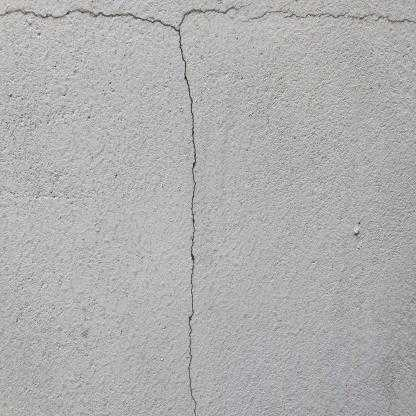crack: (0, 4, 248, 416), (242, 6, 416, 28)
